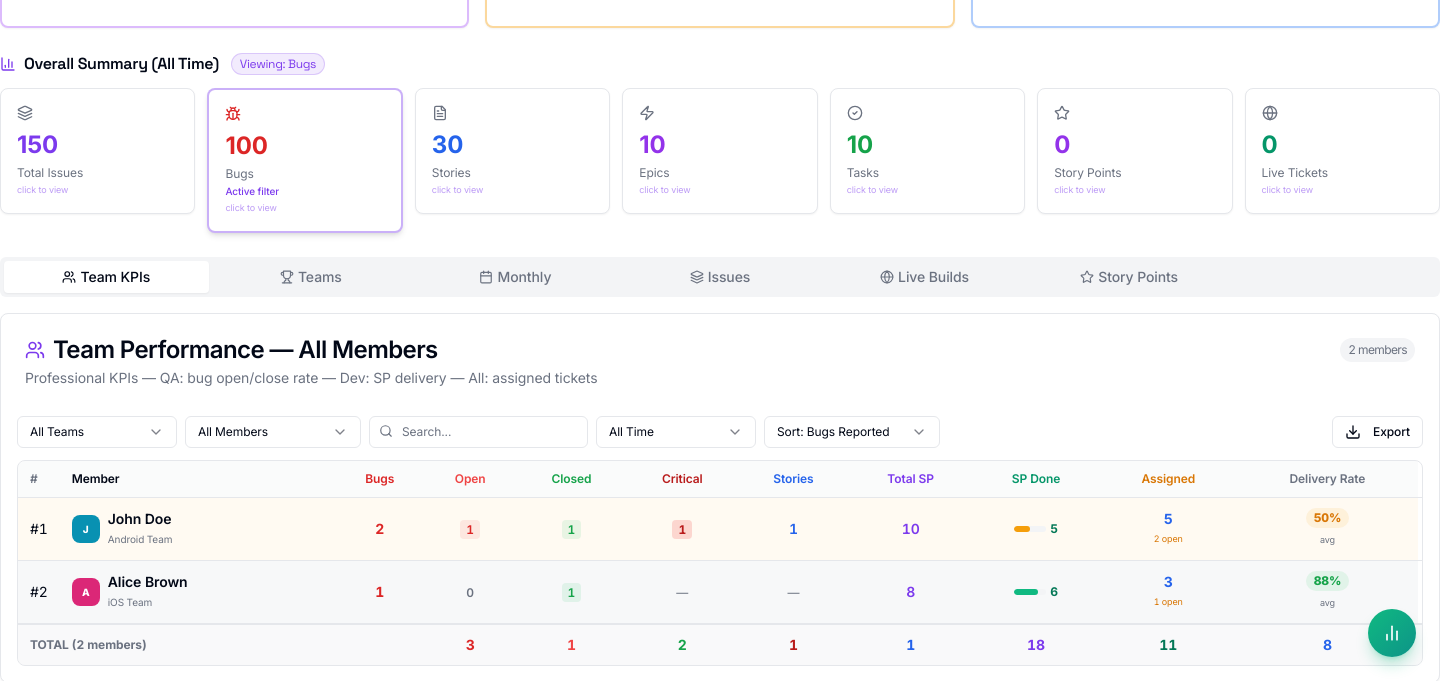
Scenario: Jira KPI Dashboard — Filter Behaviour › Bug Condition 7: Status filter matches exactly
The width and height of the screenshot is (1440, 681).
(page scrolled)
Press the mouse on the tab "Issues" at point(720, 276), box x1=618 y1=260 x2=822 y2=292
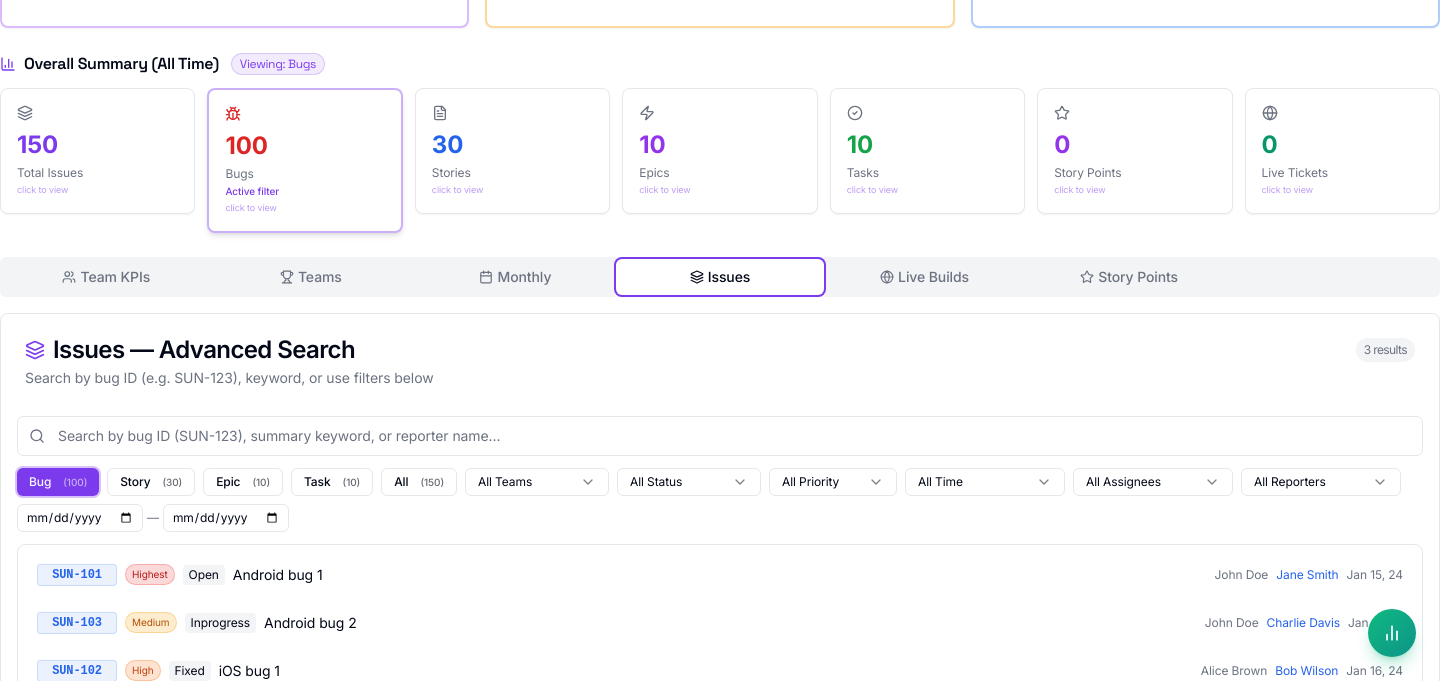
Click the dropdown labelled "All Status" at point(689, 482), box x1=617 y1=468 x2=761 y2=496
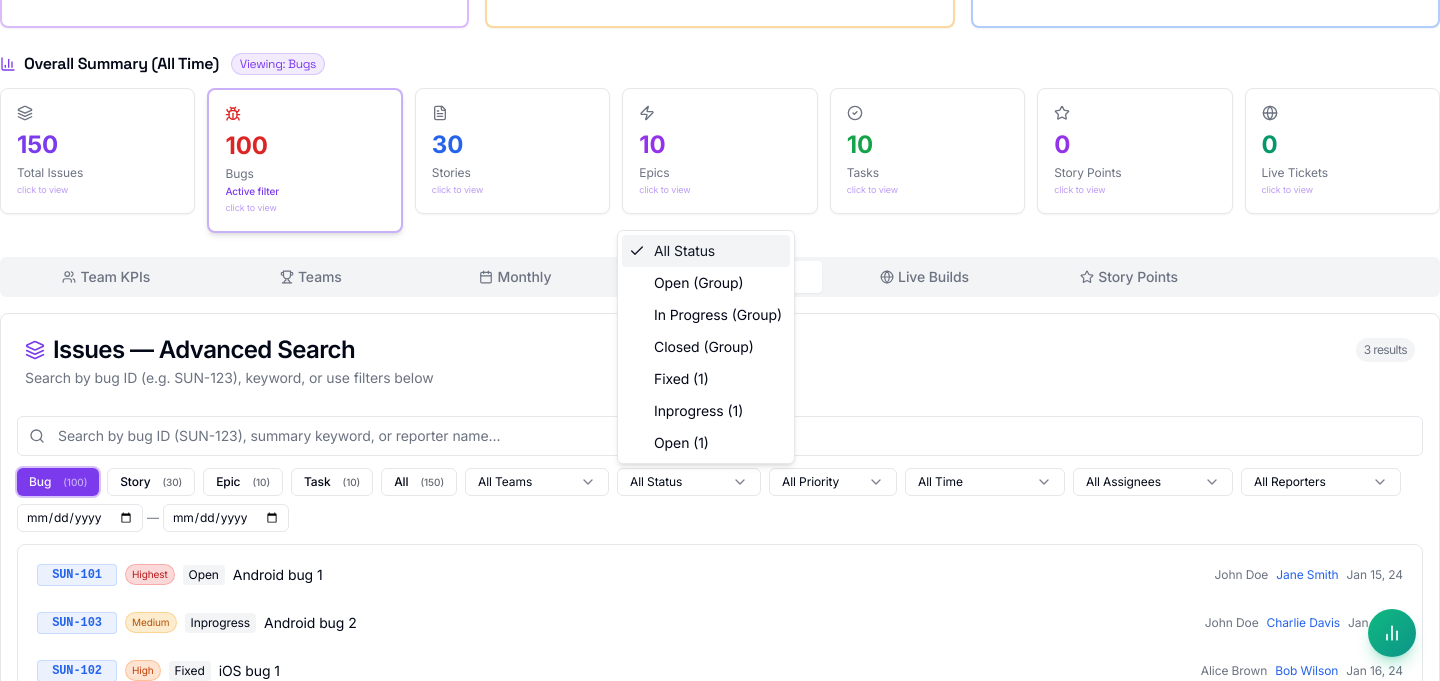
Click the option "Fixed (1)" at point(681, 378), box x1=654 y1=370 x2=709 y2=387
(page scrolled)
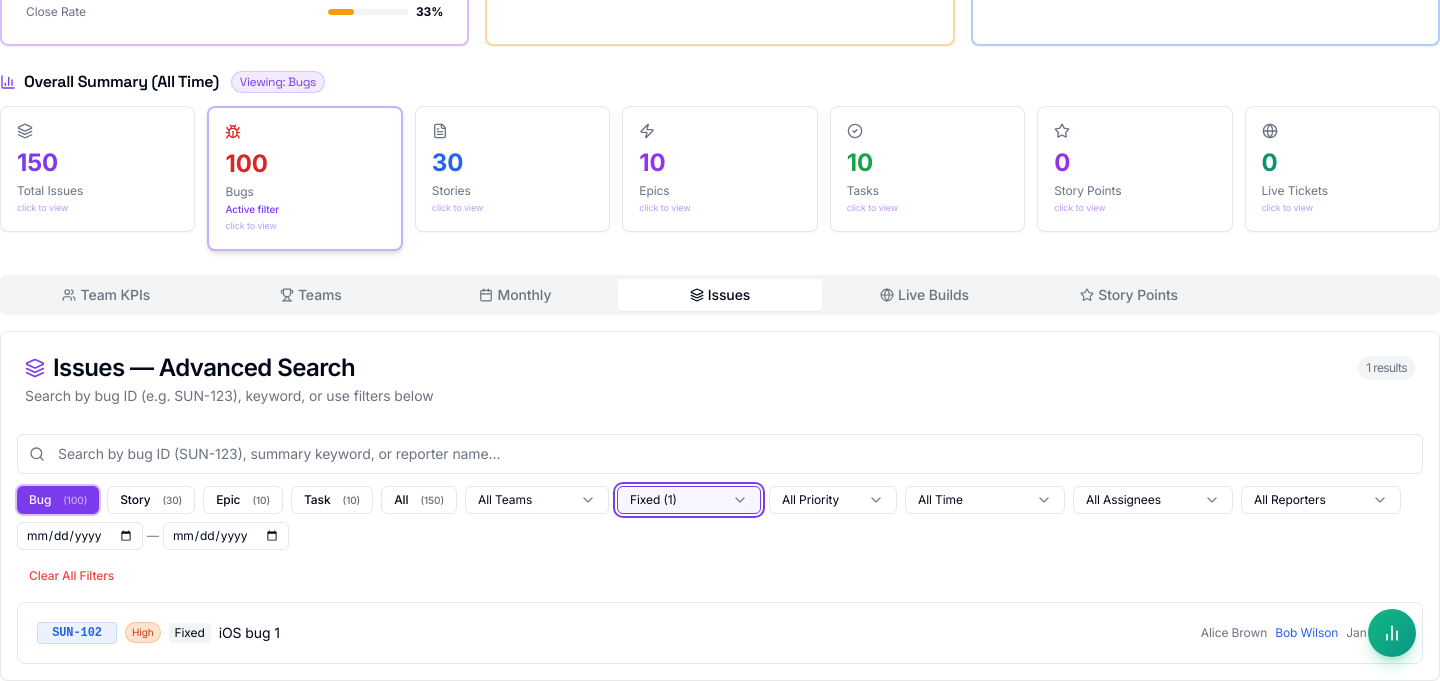
Result: the link "SUN-102" is shown at x1=37 y1=622 x2=117 y2=644
Result: the text "1 results" is shown at x1=1358 y1=356 x2=1415 y2=380
Result: the link "SUN-101" is gone
